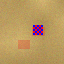vehicle: (18, 40, 30, 49)
